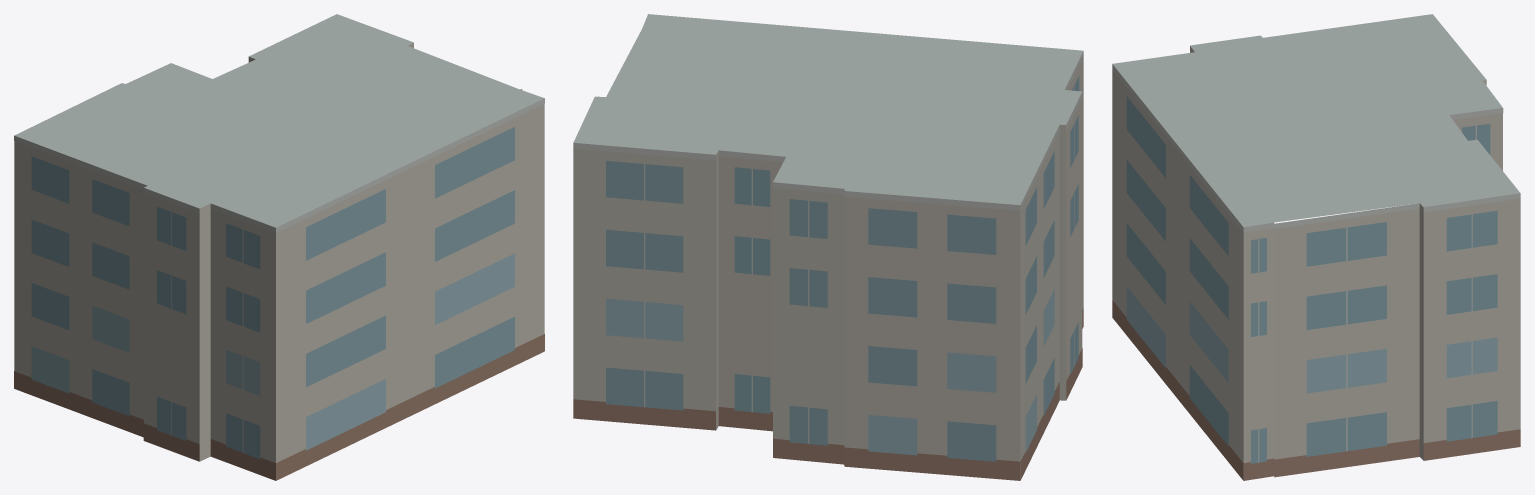
File: survey-upis-32614921.glb
3 renders of one model, left to right at view 1: azimuth 30°, elevation 25°; view 2: azimuth 150°, elevation 25°; view 3: azimuth 270°, elevation 25°, orthographic. The views are drawn at different scales.
Parts seen in each view (by area): view 1: survey-upis-32614921.tmp; view 2: survey-upis-32614921.tmp; view 3: survey-upis-32614921.tmp.
Boxes of the visible parts, left/top/right/bottom form: survey-upis-32614921.tmp: left=14, top=14, right=544, bottom=480; survey-upis-32614921.tmp: left=573, top=14, right=1083, bottom=480; survey-upis-32614921.tmp: left=1112, top=14, right=1520, bottom=480.
Bounding box in the file's own units: 21.11 × 11.7 × 17.08.
